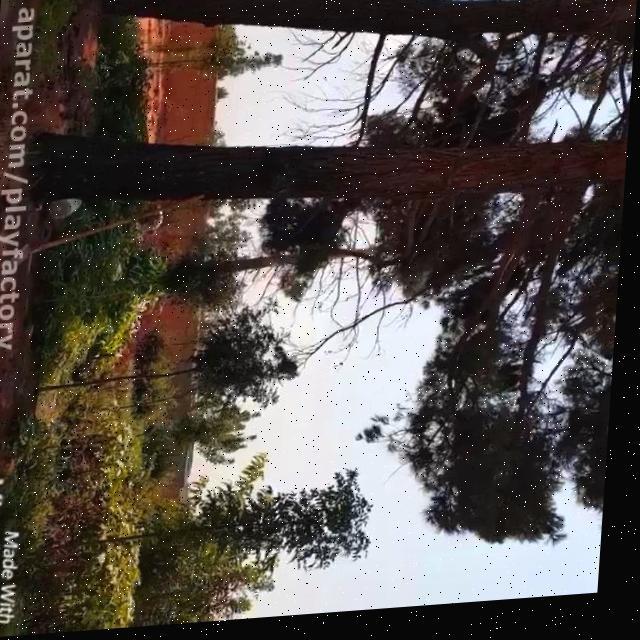drone: (320, 306, 329, 320)
